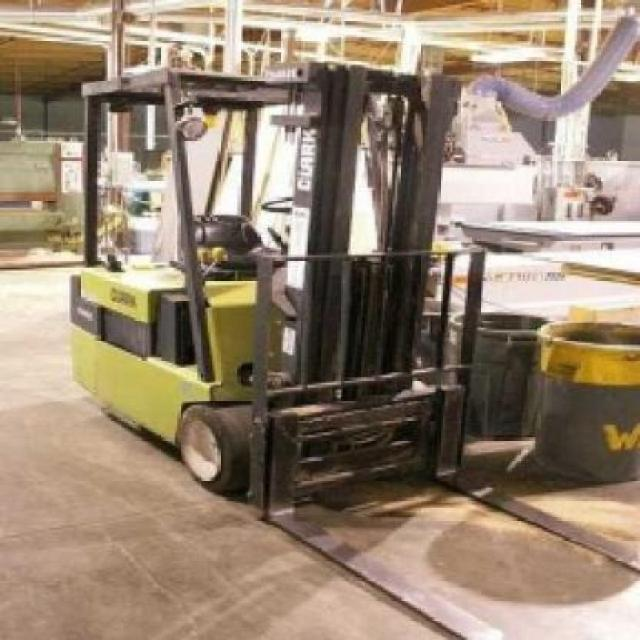forklift: (69, 49, 488, 520)
